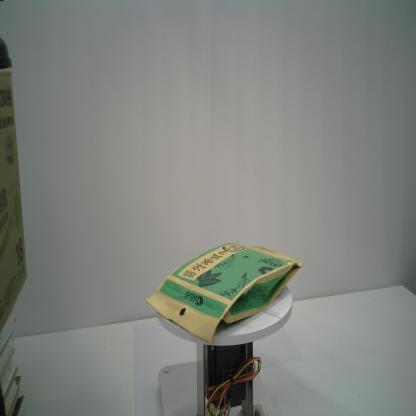Dried Food: (144, 239, 306, 346)
